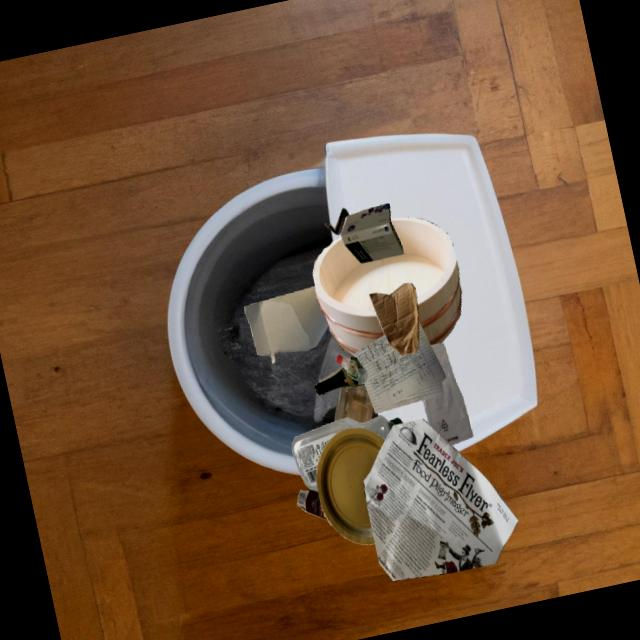cardboard: (244, 286, 328, 364), (340, 203, 404, 263), (368, 282, 419, 356), (297, 489, 327, 520), (325, 207, 349, 235)
combustible waste: (312, 217, 461, 356)
glass: (314, 366, 364, 395)
paper: (363, 418, 518, 580), (353, 321, 445, 413), (316, 428, 385, 544)
plastic: (291, 415, 403, 490), (422, 342, 473, 444), (334, 385, 373, 423), (336, 354, 367, 384)
